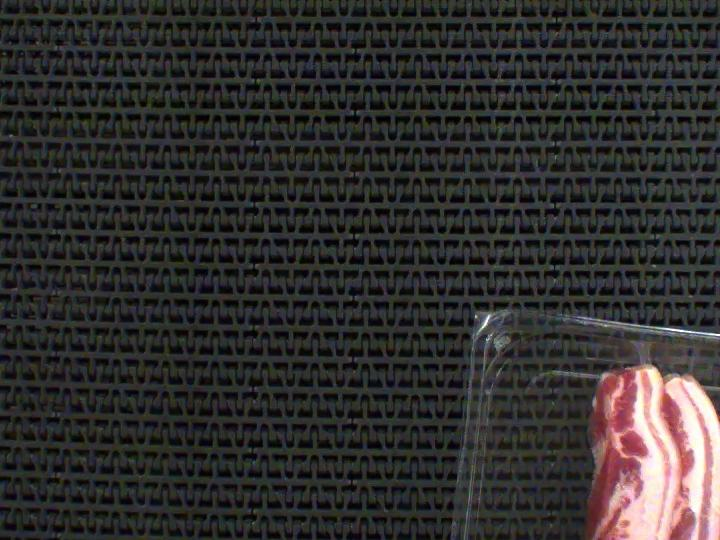packaging-error: (631, 330, 662, 376)
